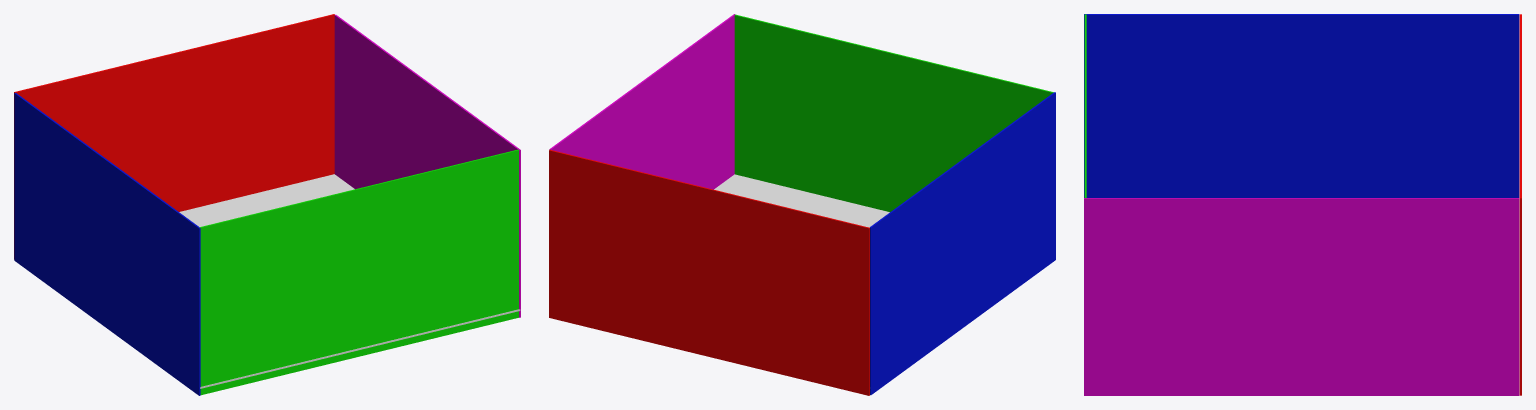
File: room.fbx
The picture shows the model from 3 angles, left to right: view 1: azimuth 30°, elevation 25°; view 2: azimuth 150°, elevation 25°; view 3: azimuth 270°, elevation 25°; orthographic projection. The views are drawn at different scales.
Parts seen in each view (by area): view 1: Cube.002, Cube.004, Cube.003, Cube.001, Cube; view 2: Cube.004, Cube.002, Cube.003, Cube.001, Cube; view 3: Cube.001, Cube.003, Cube.004, Cube.002.
Part boxes in pixels (bbox=[...]): Cube.002: bbox=[199, 149, 518, 395]; Cube.004: bbox=[14, 14, 334, 259]; Cube.003: bbox=[14, 93, 200, 395]; Cube.001: bbox=[334, 14, 520, 317]; Cube: bbox=[179, 174, 520, 388]; Cube.004: bbox=[549, 149, 869, 395]; Cube.002: bbox=[734, 14, 1053, 211]; Cube.003: bbox=[870, 92, 1055, 395]; Cube.001: bbox=[549, 14, 735, 189]; Cube: bbox=[714, 174, 889, 227]; Cube.001: bbox=[1084, 198, 1519, 395]; Cube.003: bbox=[1084, 14, 1519, 197]; Cube.004: bbox=[1519, 14, 1521, 395]; Cube.002: bbox=[1084, 14, 1086, 197].
Bounding box in the file's own units: 402 × 200 × 403.
